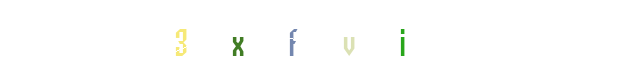3: (141, 0, 221, 80)
F: (261, 0, 341, 80)
I: (272, 0, 352, 80)
V: (269, 0, 349, 80)
X: (247, 0, 327, 80)
